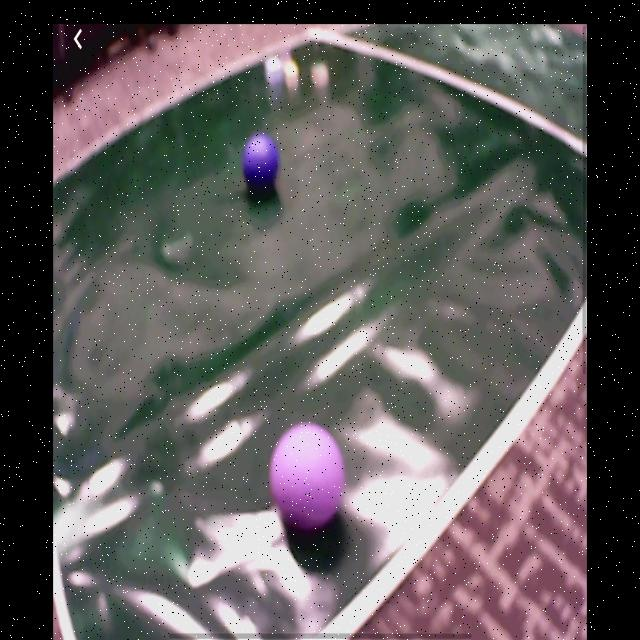ball: (270, 419, 346, 544), (243, 132, 280, 191)
